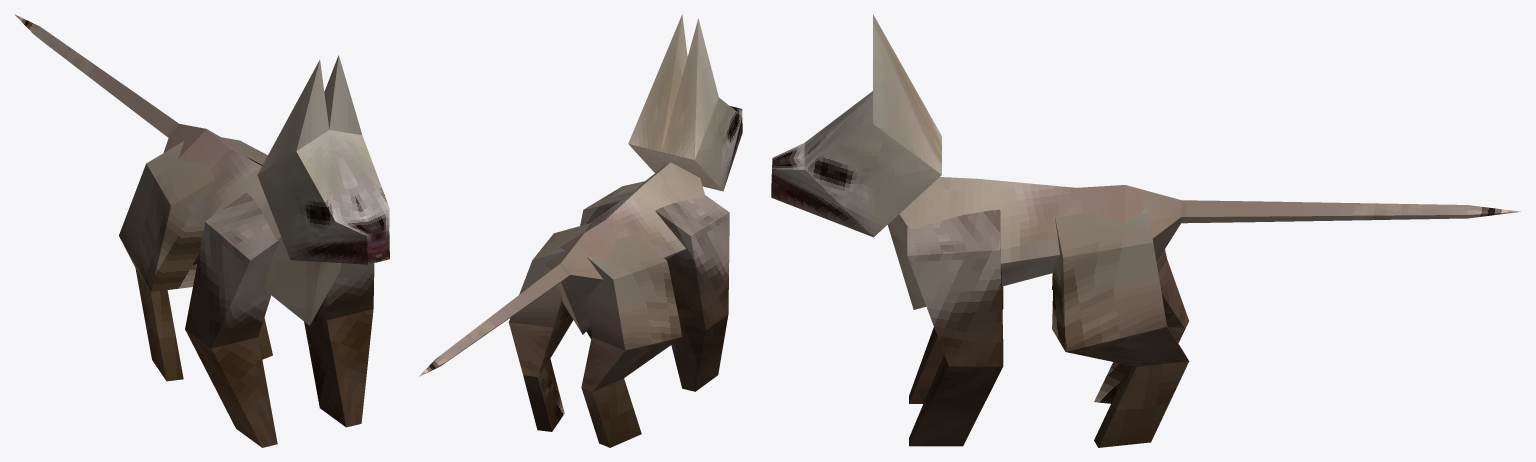
The model's file is ker.glb.
3 views of the same model, side by side, from view 1: azimuth 30°, elevation 25°; view 2: azimuth 150°, elevation 25°; view 3: azimuth 270°, elevation 25° (orthographic). The views are drawn at different scales.
Visible parts, largest first — view 1: Cube, Cube.004, Cube.005, Cube.001, Cube.003, Cube.006, Cube.002; view 2: Cube.005, Cube, Cube.004, Cube.001, Cube.002, Cube.006, Cube.003; view 3: Cube.002, Cube, Cube.003, Cube.001, Cube.006, Cube.005, Cube.004.
Boxes of the visible parts, left/top/right/bottom form: Cube: left=257, top=55, right=389, bottom=264; Cube.004: left=185, top=192, right=279, bottom=447; Cube.005: left=119, top=141, right=215, bottom=381; Cube.001: left=163, top=124, right=341, bottom=325; Cube.003: left=304, top=263, right=374, bottom=427; Cube.006: left=14, top=14, right=178, bottom=137; Cube.002: left=222, top=137, right=272, bottom=359; Cube.005: left=581, top=233, right=682, bottom=447; Cube: left=628, top=14, right=742, bottom=191; Cube.004: left=655, top=195, right=729, bottom=391; Cube.001: left=544, top=162, right=705, bottom=334; Cube.002: left=508, top=223, right=591, bottom=431; Cube.006: left=419, top=263, right=569, bottom=376; Cube.003: left=580, top=181, right=644, bottom=338; Cube.002: left=1052, top=208, right=1189, bottom=447; Cube: left=771, top=14, right=941, bottom=237; Cube.003: left=907, top=209, right=1003, bottom=446; Cube.001: left=888, top=177, right=1181, bottom=309; Cube.006: left=1181, top=200, right=1520, bottom=223; Cube.005: left=1052, top=249, right=1188, bottom=403; Cube.004: left=909, top=286, right=1003, bottom=403.
Bounding box in the file's own units: 1.77 × 3.91 × 6.6.
Materials: 1 (1 with a texture image).
